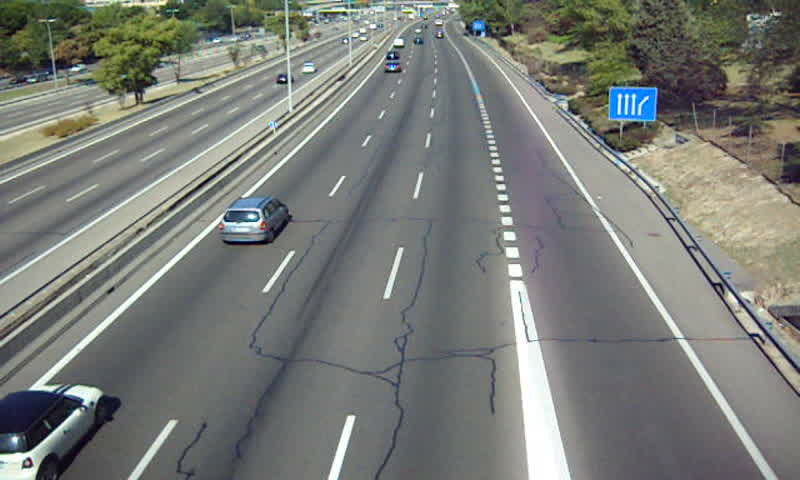car: (1, 386, 106, 480), (220, 196, 290, 244), (383, 60, 404, 75)
